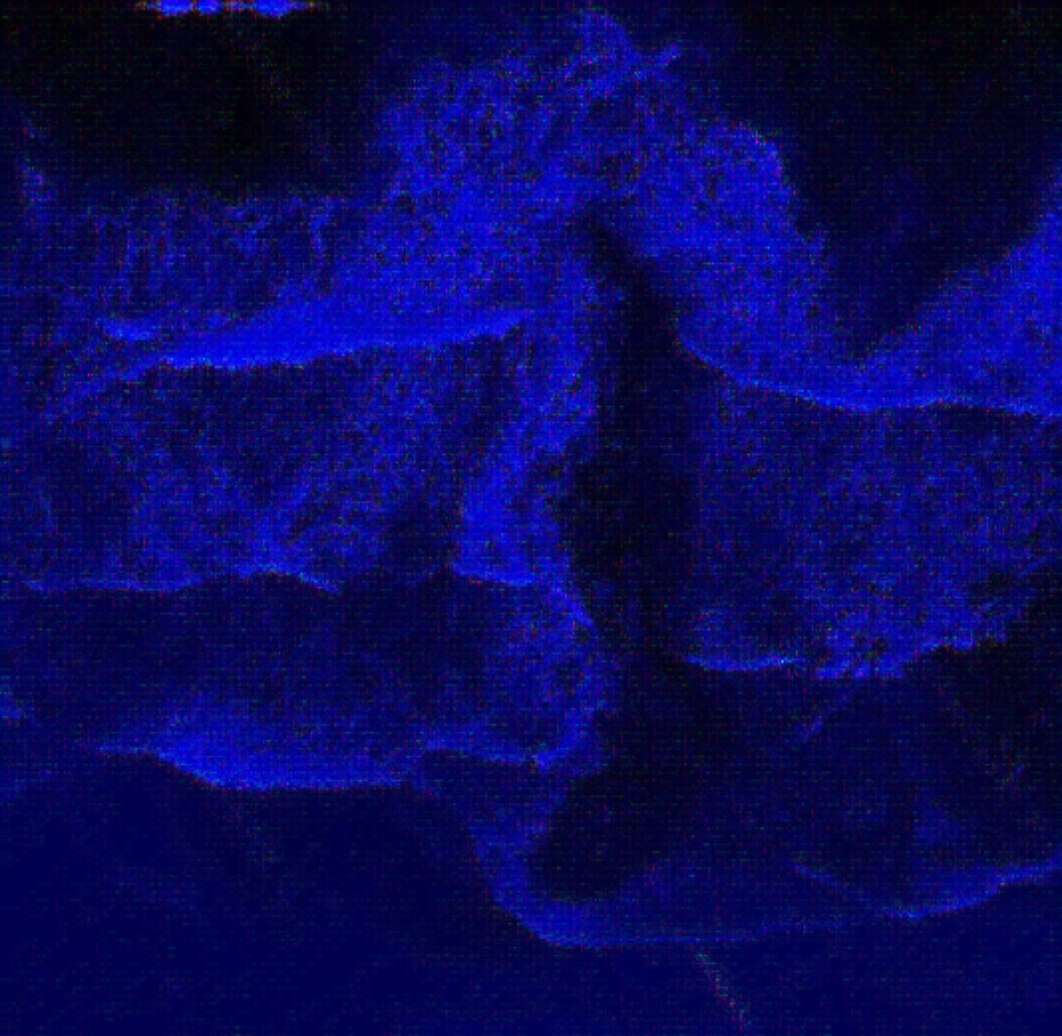rip_current: (499, 144, 749, 843)
